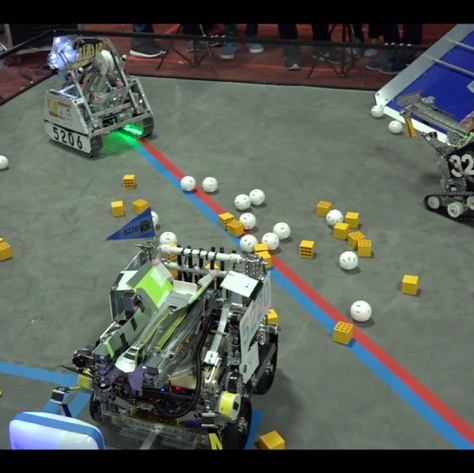robot: (71, 207, 281, 448), (39, 31, 159, 160), (398, 85, 474, 224)
